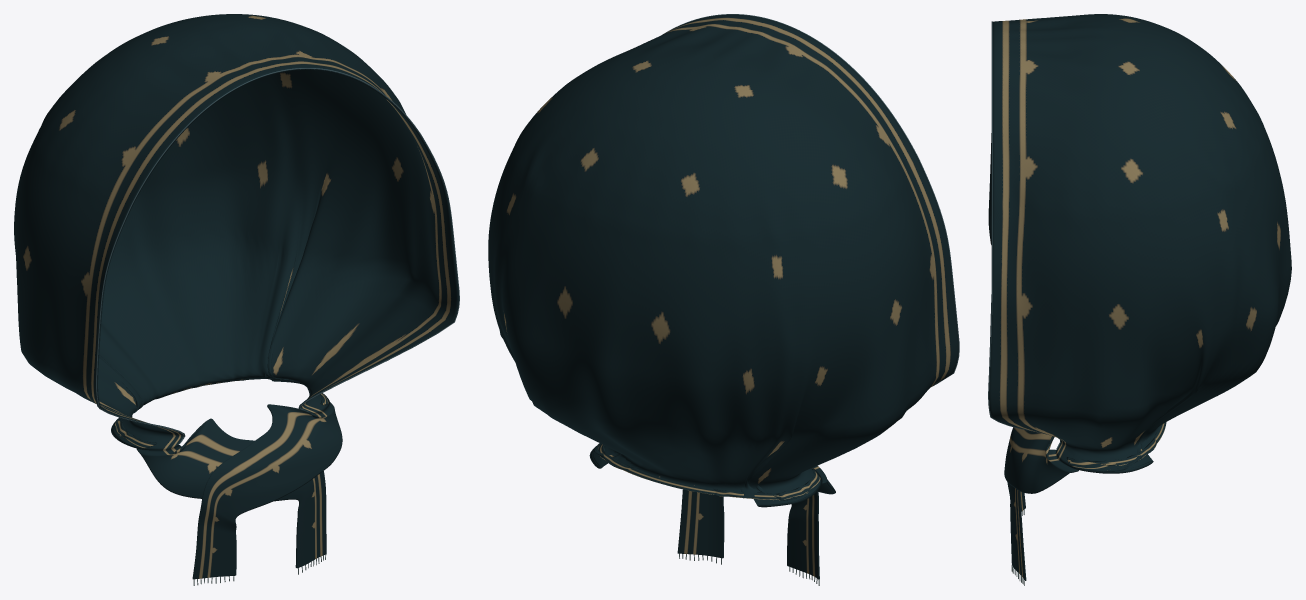
File: Masculine-tank-pashmina236-headgear.glb
3 views of the same model, side by side, from view 1: azimuth 30°, elevation 25°; view 2: azimuth 150°, elevation 25°; view 3: azimuth 270°, elevation 25° (orthographic). The views are drawn at different scales.
Parts seen in each view (by area): view 1: 226 headgear / Headwear / continuous woven pashmina236, 226 headgear / Headwear / face edge236; view 2: 226 headgear / Headwear / continuous woven pashmina236, 226 headgear / Headwear / face edge236; view 3: 226 headgear / Headwear / continuous woven pashmina236, 226 headgear / Headwear / face edge236.
Part boxes in pixels (box(x1,y1,x2,y2)): 226 headgear / Headwear / continuous woven pashmina236: box(14, 14, 458, 579); 226 headgear / Headwear / face edge236: box(96, 68, 459, 443); 226 headgear / Headwear / continuous woven pashmina236: box(488, 14, 958, 579); 226 headgear / Headwear / face edge236: box(662, 14, 959, 386); 226 headgear / Headwear / continuous woven pashmina236: box(988, 14, 1291, 580); 226 headgear / Headwear / face edge236: box(988, 21, 1060, 449).
Size of the model in its own units: 1.03 by 1.35 by 0.7127.
3 materials, 1 textured.
